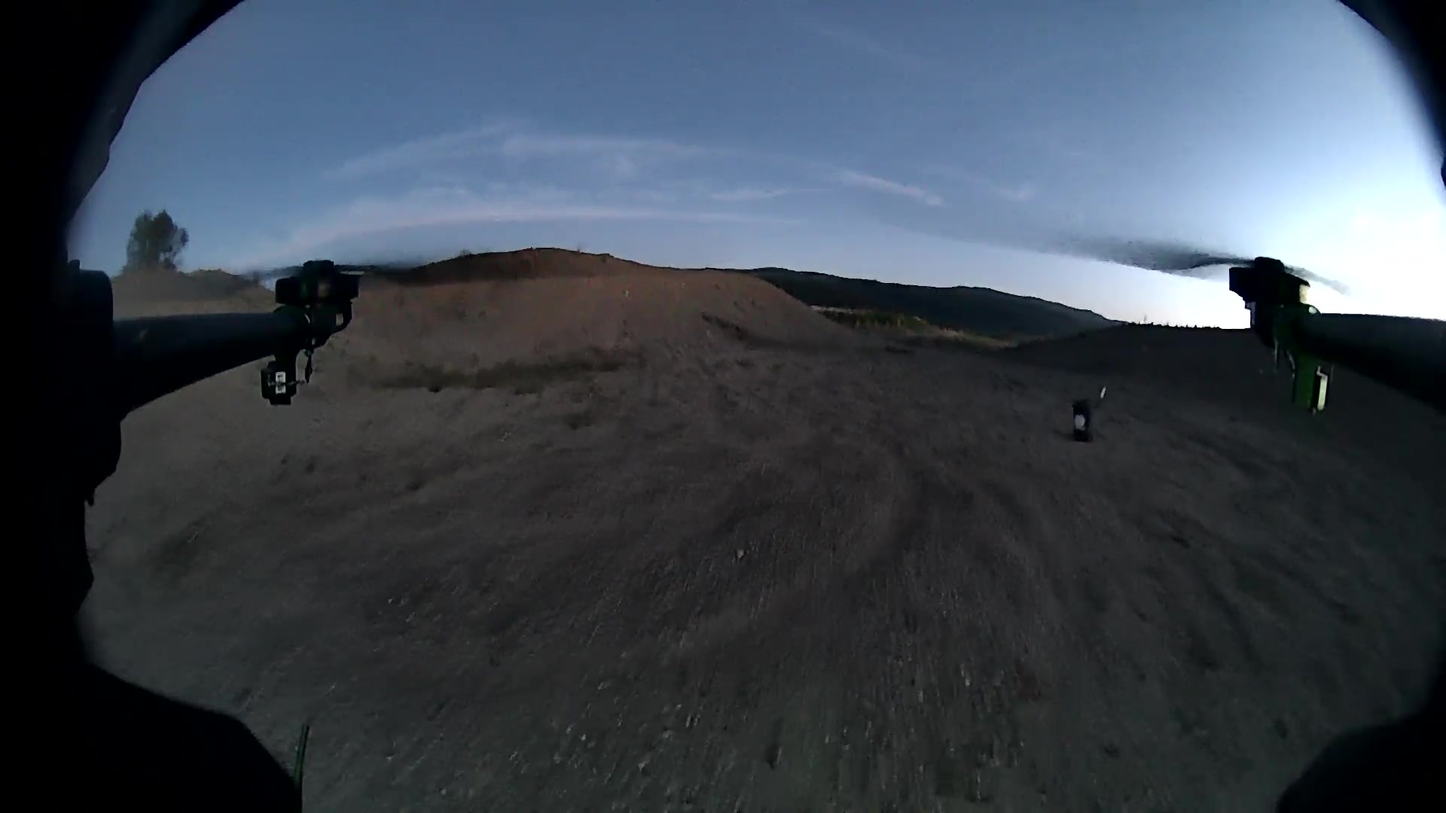Target: (1074, 415, 1085, 430)
